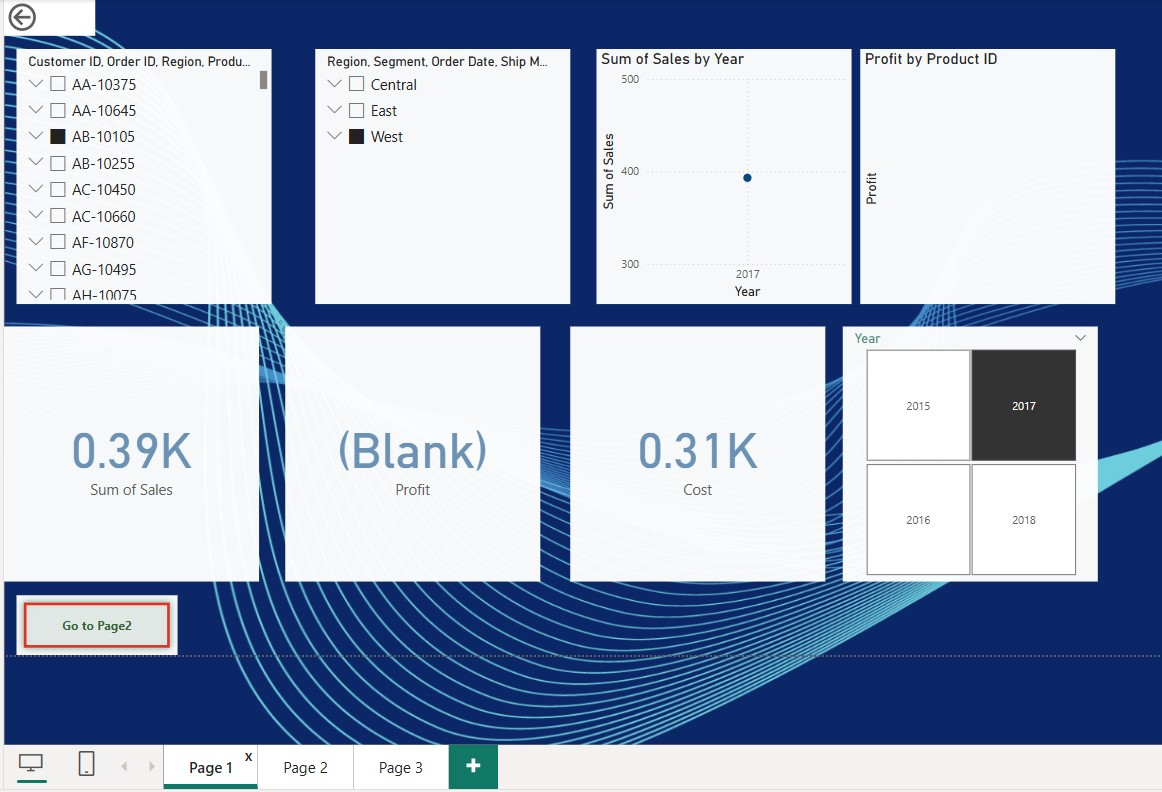

Layout of this report page (visuals, bound fields, positions):
{"tool":"powerbi","page":{"name":"Page 1","canvas":[1280,720],"ordinal":0},"visuals":[{"type":"card","fields":{"Values":["Sum(train.Sales)"]},"box":[0,359.5,279.9,279.9],"z":0},{"type":"slicer","fields":{"Values":["train.Region","train.Segment","train.Order Date","train.Ship Mode","train.Order Date.Variation.Date Hierarchy.Year","train.Order Date.Variation.Date Hierarchy.Quarter","train.Order Date.Variation.Date Hierarchy.Month","train.Order Date.Variation.Date Hierarchy.Day"]},"box":[341.7,54.9,279.9,279.9],"z":1000},{"type":"lineChart","fields":{"Category":["train.Order Date.Variation.Date Hierarchy.Year","train.Order Date.Variation.Date Hierarchy.Quarter","train.Order Date.Variation.Date Hierarchy.Month","train.Order Date.Variation.Date Hierarchy.Day"],"Y":["Sum(train.Sales)"]},"box":[650.4,54.9,279.9,279.9],"z":2000},{"type":"lineChart","fields":{"Category":["train.Product ID"],"Y":["train.Profit"]},"box":[940,55,280,280],"z":3000},{"type":"actionButton","box":[0,0,100,40],"z":4000},{"type":"actionButton","box":[0,0,100,40],"z":4001},{"type":"actionButton","box":[0,0,100,40],"z":4002},{"type":"actionButton","box":[13.7,654.5,177,65.9],"z":4003},{"type":"slicer","fields":{"Values":["train.Customer ID","train.Order ID","train.Region","train.Product ID","train.Product Name"]},"box":[13.7,54.9,279.9,279.9],"z":4004},{"type":"card","fields":{"Values":["train.Profit"]},"box":[308.7,359.5,279.9,279.9],"z":4005},{"type":"card","fields":{"Values":["train.Cost"]},"box":[621.6,359.5,279.9,279.9],"z":4006},{"type":"slicer","fields":{"Values":["train.Order Date.Variation.Date Hierarchy.Year"]},"box":[920.8,359.5,279.9,279.9],"z":4007}]}

Visuals, with their boxes in screenshot pixels (x1, y1, x2, y2):
card - Sum(train.Sales): 0,325,251,584
slicer - train.Region x train.Segment: 308,42,568,302
lineChart - train.Order Date.Variation.Date Hierarchy.Year x train.Order Date.Variation.Date Hierarchy.Quarter: 595,42,854,302
lineChart - train.Product ID x train.Profit: 863,42,1123,302
actionButton: 0,0,84,28
actionButton: 0,0,84,28
actionButton: 0,0,84,28
actionButton: 4,598,168,660
slicer - train.Customer ID x train.Order ID: 4,42,263,302
card - train.Profit: 277,325,537,584
card - train.Cost: 568,325,828,584
slicer - train.Order Date.Variation.Date Hierarchy.Year: 846,325,1105,584
